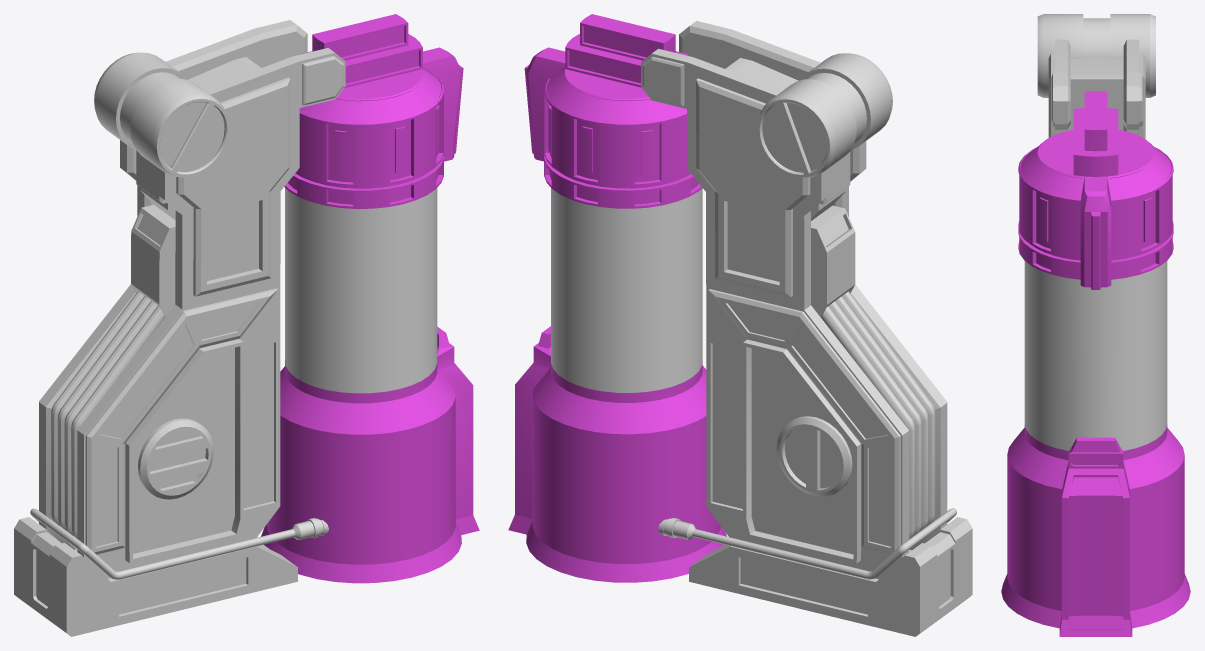
The model's file is pod.fbx.
3 renders of one model, left to right at view 1: azimuth 30°, elevation 25°; view 2: azimuth 150°, elevation 25°; view 3: azimuth 270°, elevation 25°, orthographic. The views are drawn at different scales.
Visible parts, largest first — view 1: Cylinder.005, Cylinder.006, Cube.028, Cylinder.004; view 2: Cylinder.005, Cylinder.006, Cube.028, Cylinder.004; view 3: Cylinder.006, Cylinder.005.
Part boxes in pixels (x1,y1,x2,y2): Cylinder.005: [39, 20, 345, 578]; Cylinder.006: [261, 14, 479, 583]; Cube.028: [14, 517, 297, 636]; Cylinder.004: [30, 508, 328, 579]; Cylinder.005: [641, 21, 947, 579]; Cylinder.006: [508, 14, 726, 582]; Cube.028: [689, 517, 972, 636]; Cylinder.004: [658, 508, 956, 579]; Cylinder.006: [1001, 91, 1190, 636]; Cylinder.005: [1037, 14, 1155, 138].
Bounding box in the file's own units: 220 × 257 × 91.38.
